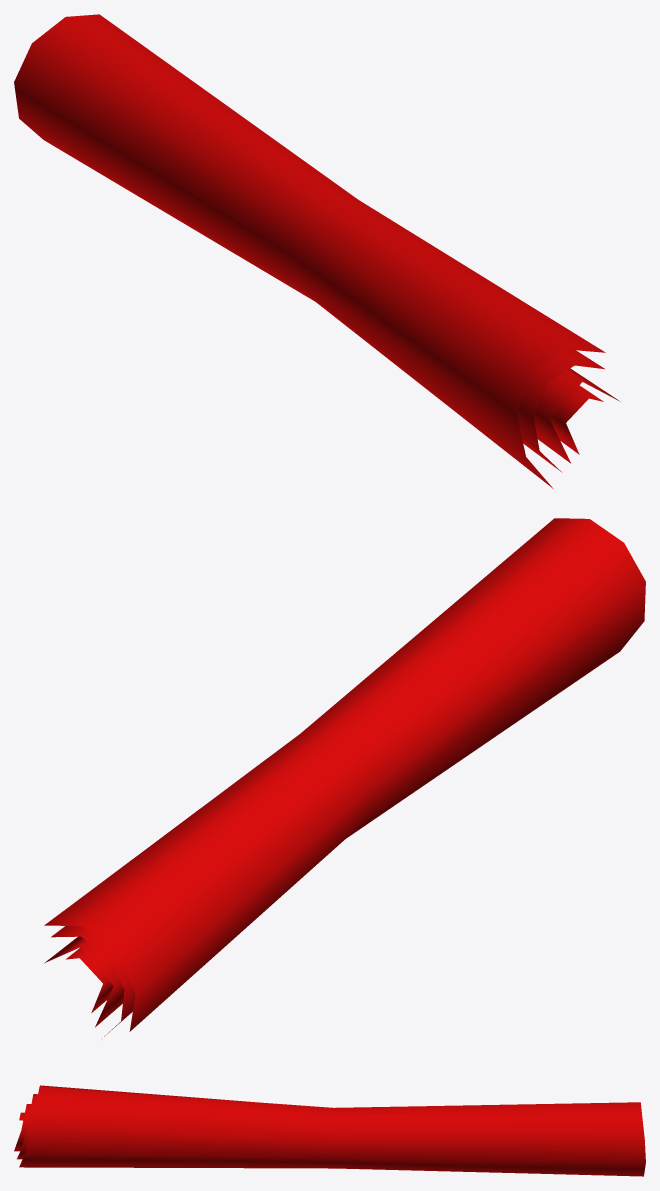
The model's file is Attic_PaperRoll_01_LP.glb.
3 renders of one model, top to bottom at view 1: azimuth 30°, elevation 25°; view 2: azimuth 150°, elevation 25°; view 3: azimuth 270°, elevation 25°, orthographic. The views are drawn at different scales.
Parts seen in each view (by area): view 1: Attic_PaperRoll_01_LP; view 2: Attic_PaperRoll_01_LP; view 3: Attic_PaperRoll_01_LP.
Part boxes in pixels (x1,y1,x2,y2): Attic_PaperRoll_01_LP: (14,14,620,488); Attic_PaperRoll_01_LP: (44,518,645,1036); Attic_PaperRoll_01_LP: (14,1085,645,1176).
Bounding box in the file's own units: 0.0601 × 0.0681 × 0.434.
